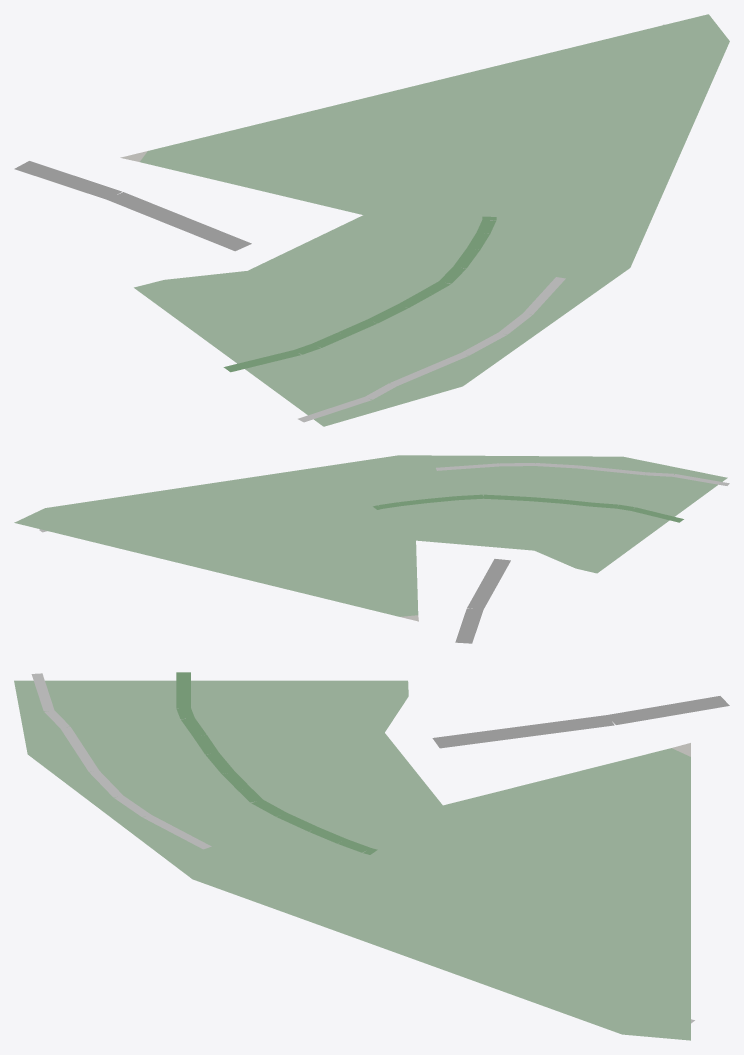
3 renders of one model, top to bottom at view 1: azimuth 30°, elevation 25°; view 2: azimuth 150°, elevation 25°; view 3: azimuth 270°, elevation 25°, orthographic. The views are drawn at different scales.
Bounding box in the file's own units: 236 × 0.8203 × 194.
